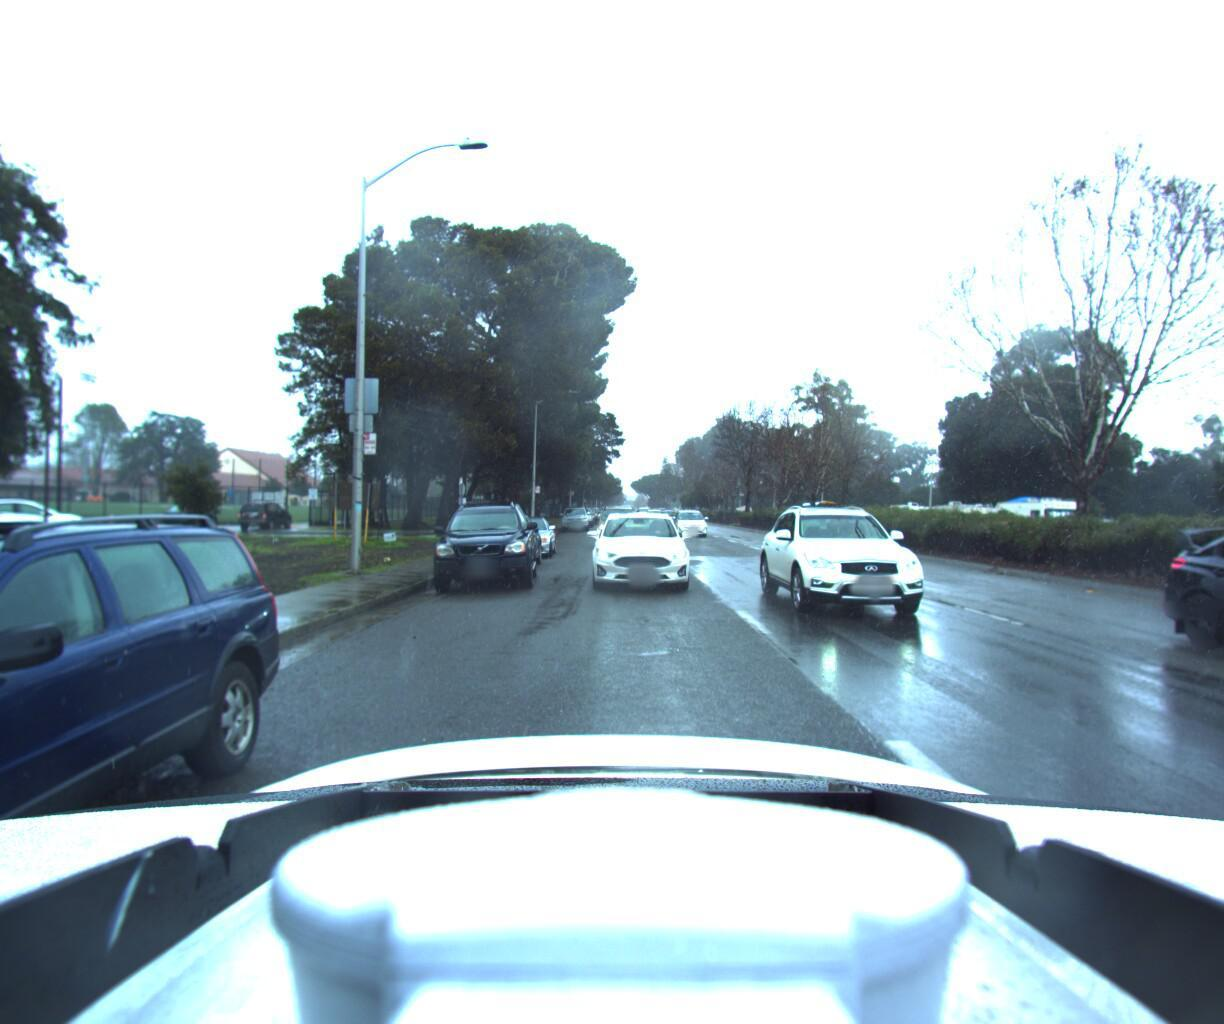car: (0, 511, 301, 1024), (766, 498, 974, 634), (424, 493, 541, 596), (588, 504, 693, 595), (1208, 498, 1224, 767), (488, 513, 555, 557), (594, 504, 642, 549), (671, 508, 711, 537), (556, 503, 586, 530)
other_vehicle: (972, 490, 1085, 551), (917, 496, 993, 541)
